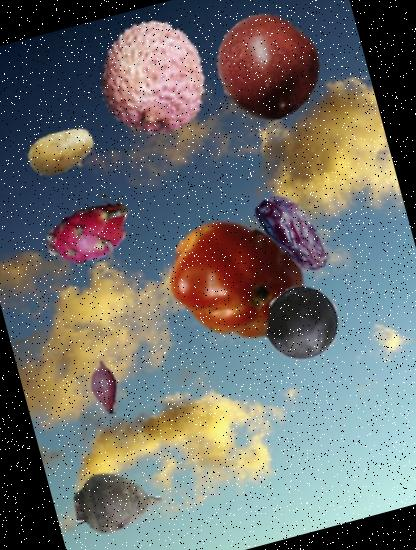Beetroot: (62, 444, 177, 550)
Dates: (240, 178, 350, 288)
Grape: (256, 276, 350, 370)
Lychee: (84, 7, 225, 148)
Nectarine: (203, 2, 332, 132)
Pitahaya: (38, 181, 146, 288)
Potato: (18, 109, 106, 197)
Salak: (70, 353, 139, 422)
Tomato: (153, 197, 320, 364)
